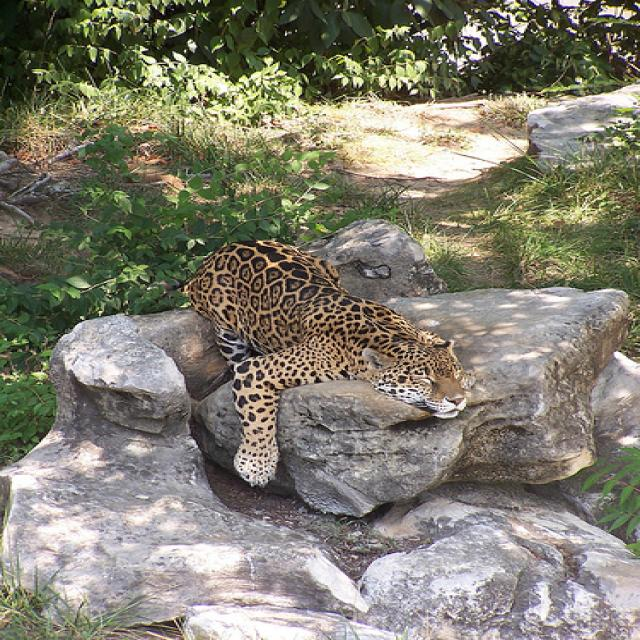Leopard: (179, 235, 468, 488)
